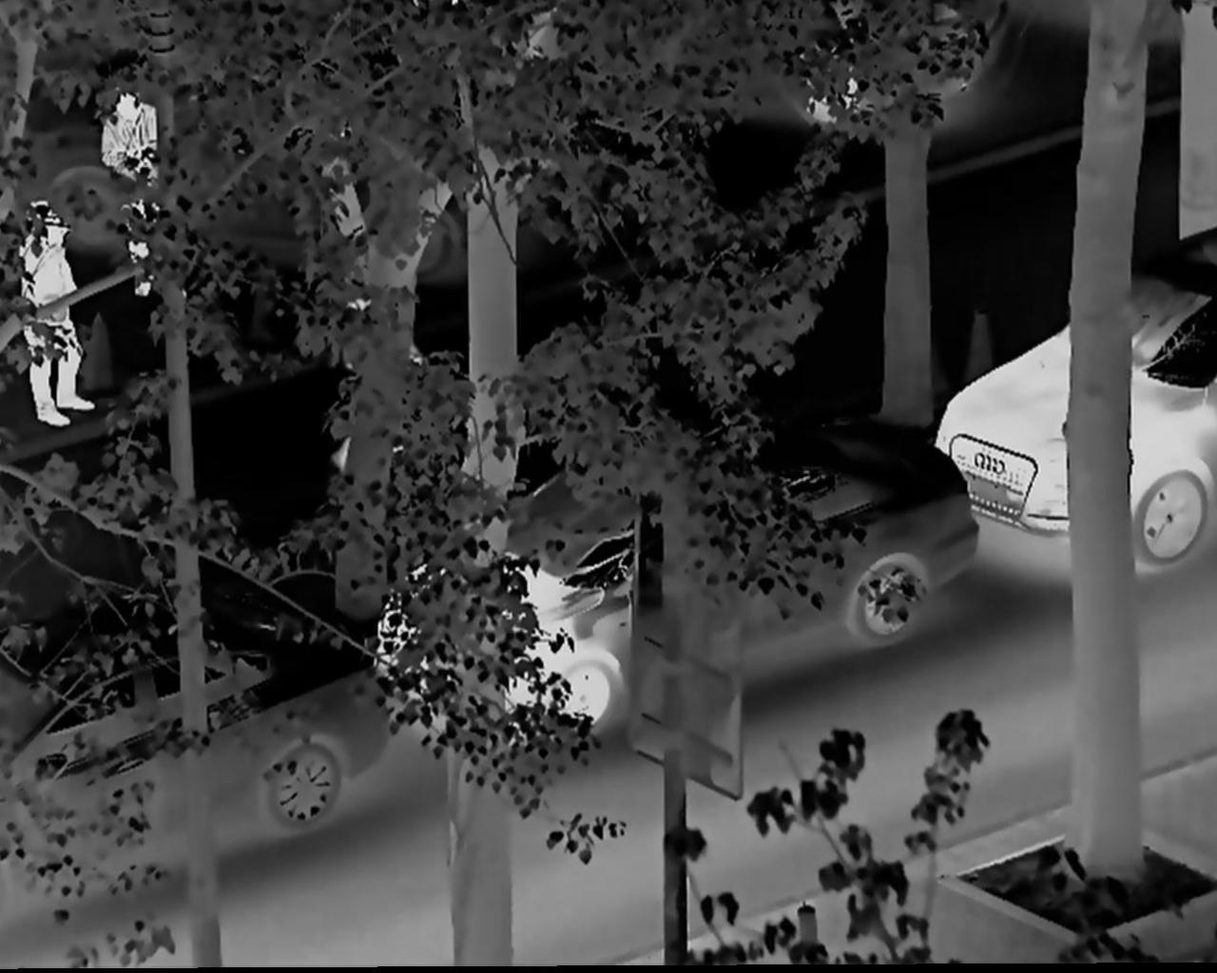person: (15, 206, 104, 433), (93, 85, 182, 299)
